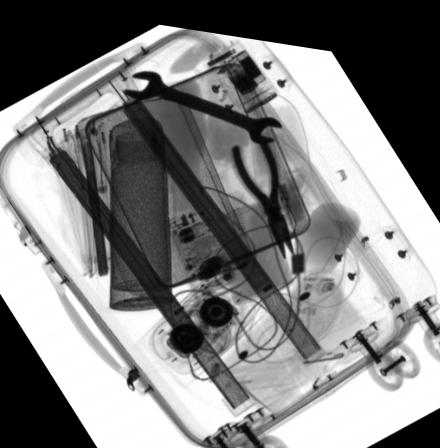Pliers: (229, 129, 294, 250)
Wrench: (124, 63, 280, 135)
